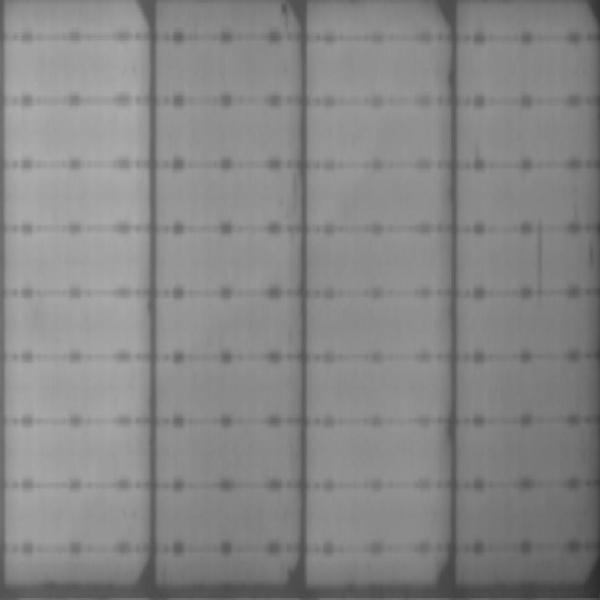scratch: (532, 215, 550, 308)
